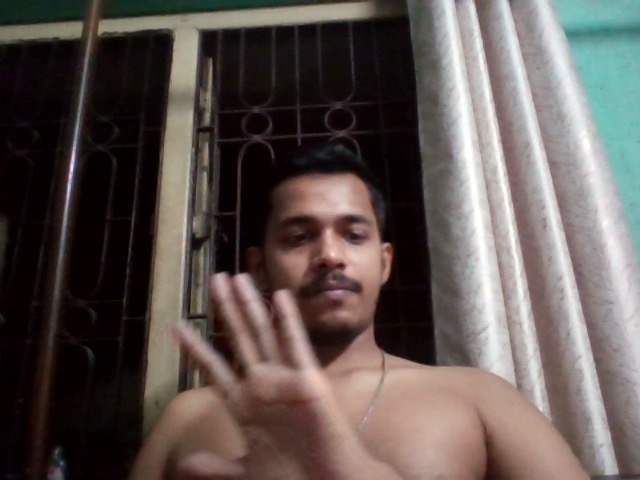Hello: (141, 243, 355, 480)
